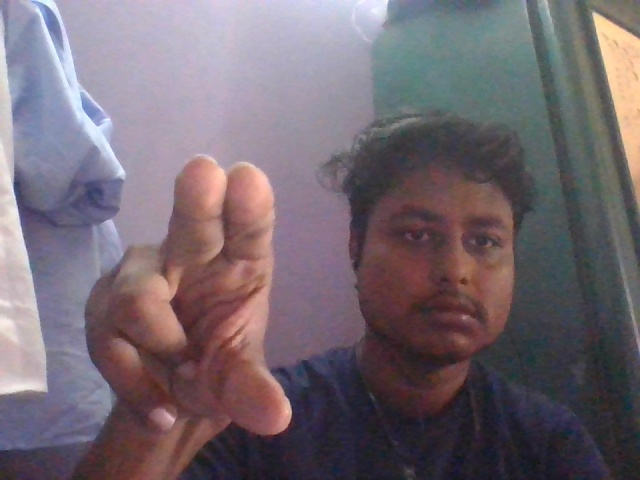no: (77, 140, 301, 452)
